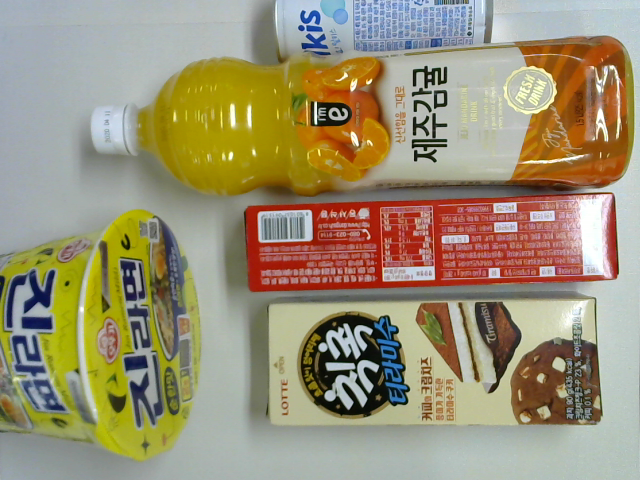Chicchok_Tiramisu: (263, 287, 605, 432)
Jeju_Tangerine_1.5L: (90, 32, 640, 203)
Jinlamyeon_Mild_Taste_Large_Cup: (1, 205, 208, 467)
Milkies_250ml: (273, 1, 499, 67)
Ritz_Cracker: (241, 191, 623, 298)
